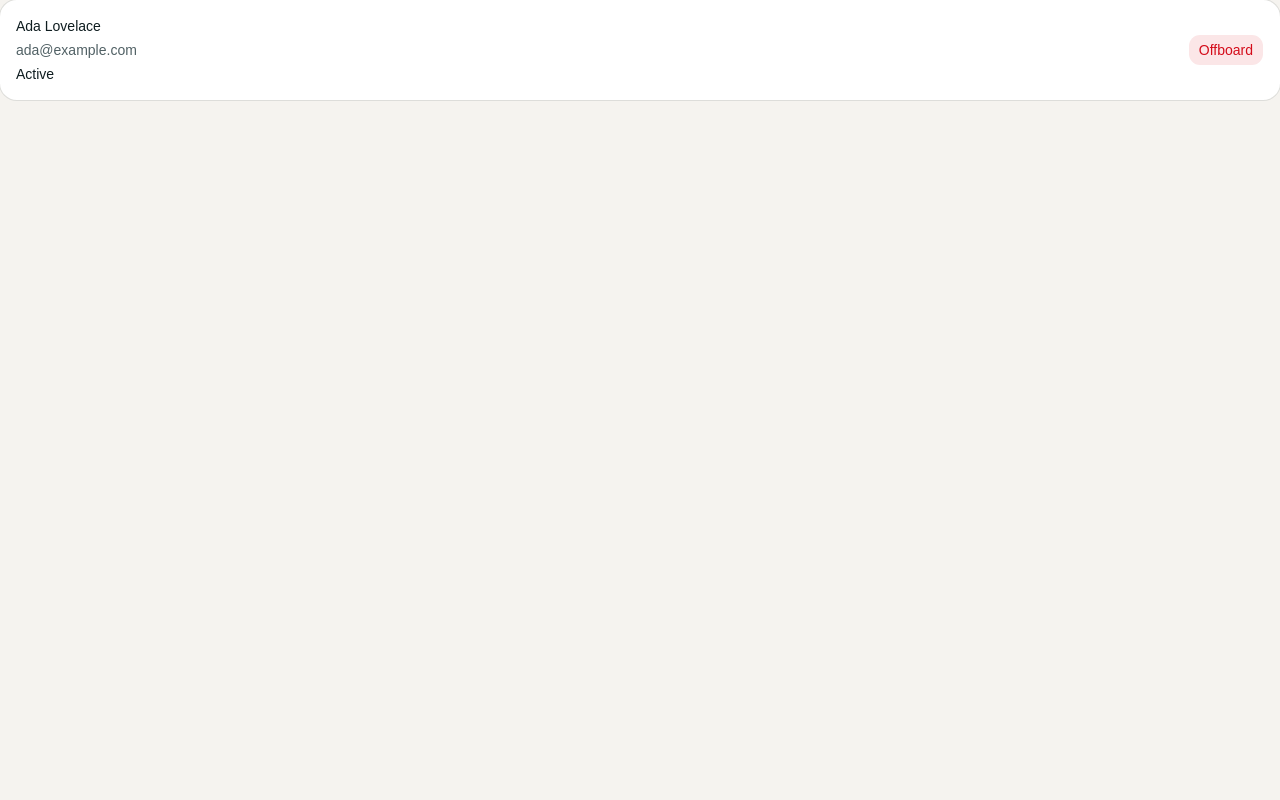
it: MembersAdminPage › does nothing when the offboard confirmation is canceled
This screenshot has width=1280, height=800.
Click the button with aria-label "Offboard Ada Lovelace": (1226, 50) [1188, 34, 1264, 66]
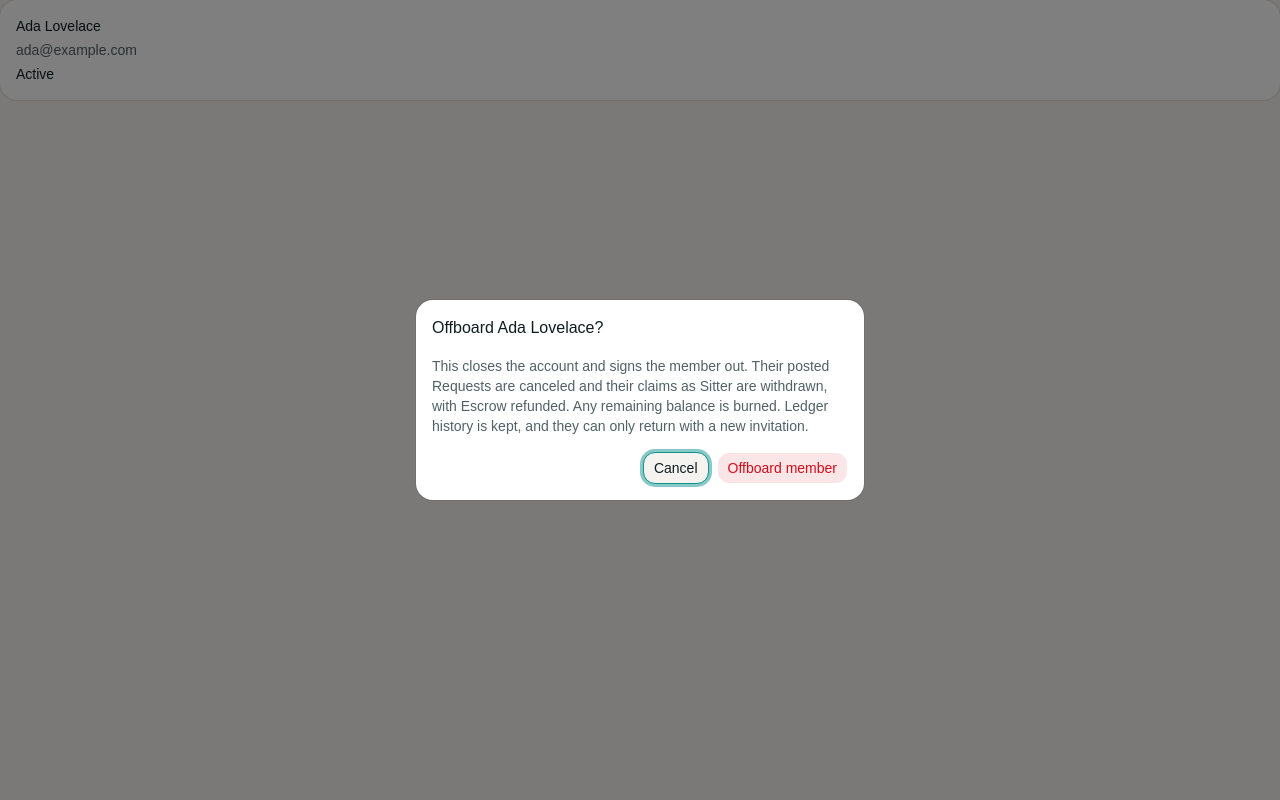
Click the button "Cancel": (676, 468) [643, 452, 708, 484]
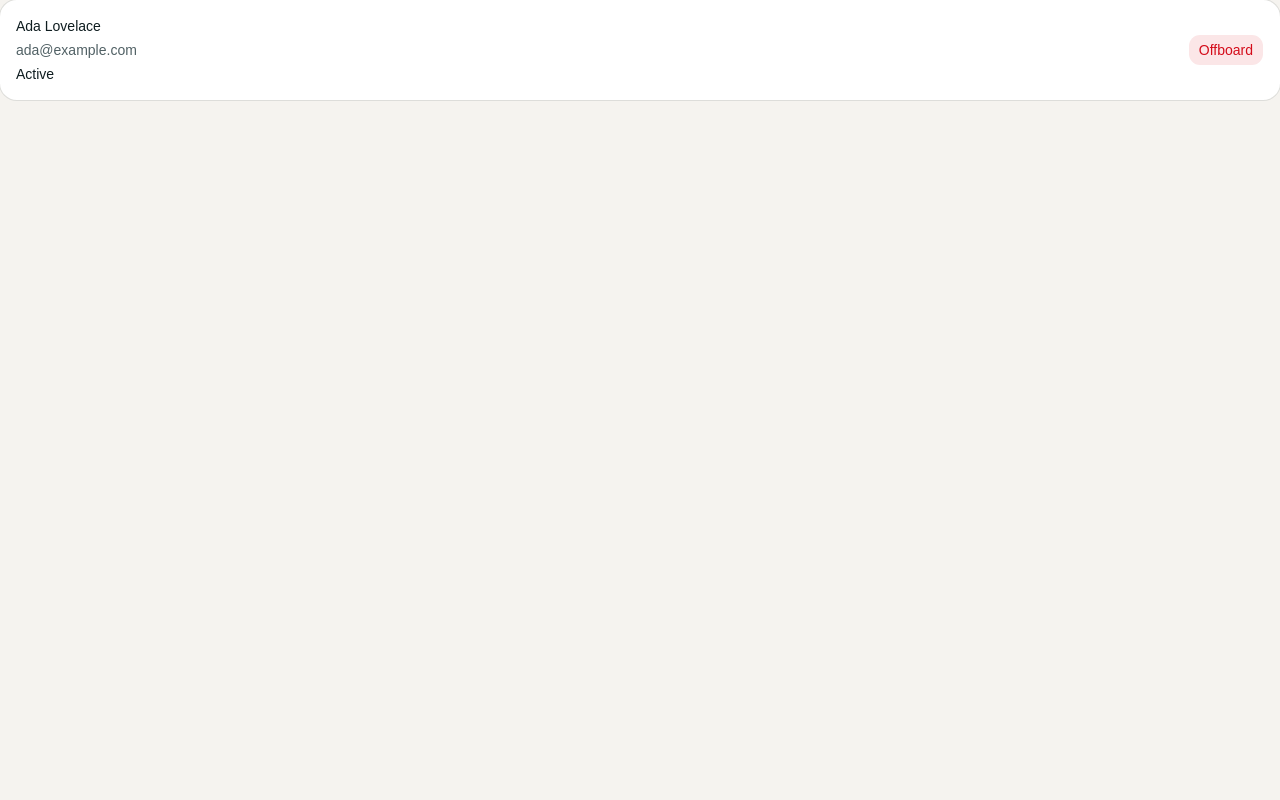
Now the dialog is gone
